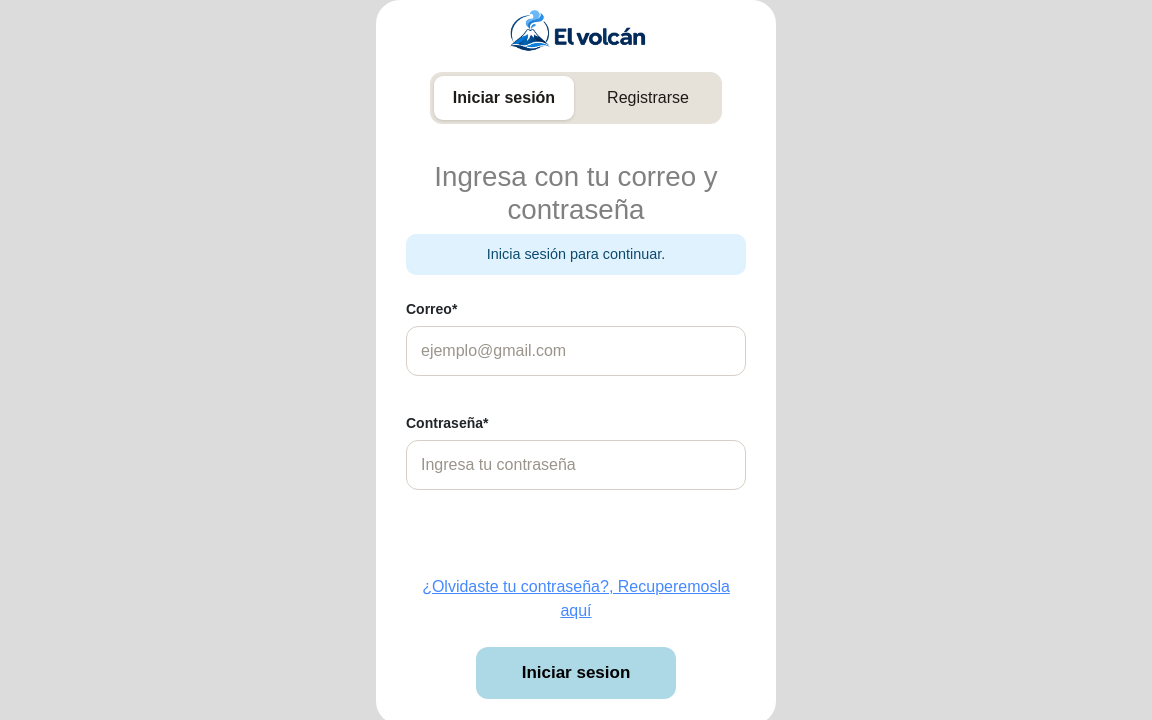
Scenario: App - autenticación › después de iniciar sesión vuelve a la página privada que pidió
Type "camila.rojas@correo.cl" into the field labelled "Correo*".
click(576, 351); type("camila.rojas@correo.cl")  # box left=406, top=326, right=746, bottom=376
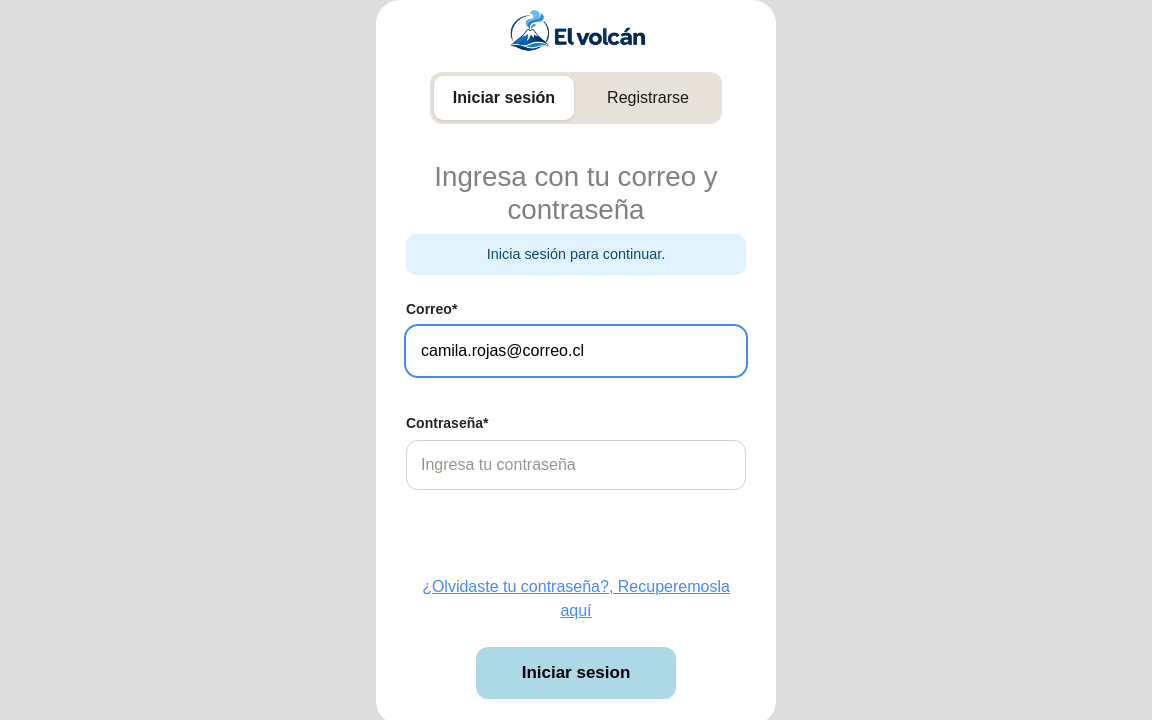
Type "Clave1234" into the password field labelled "Contraseña*".
click(576, 465); type("Clave1234")  # box left=406, top=440, right=746, bottom=490
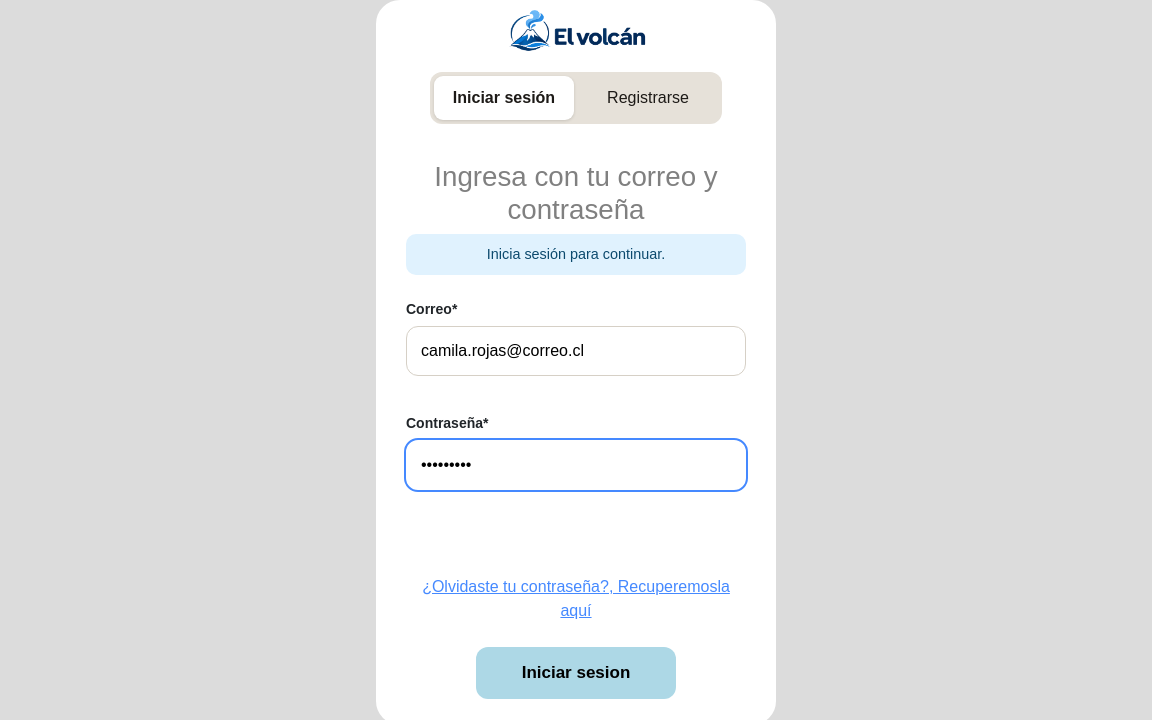
Click the button "Iniciar sesion".
click(576, 673)  # box left=476, top=647, right=676, bottom=699
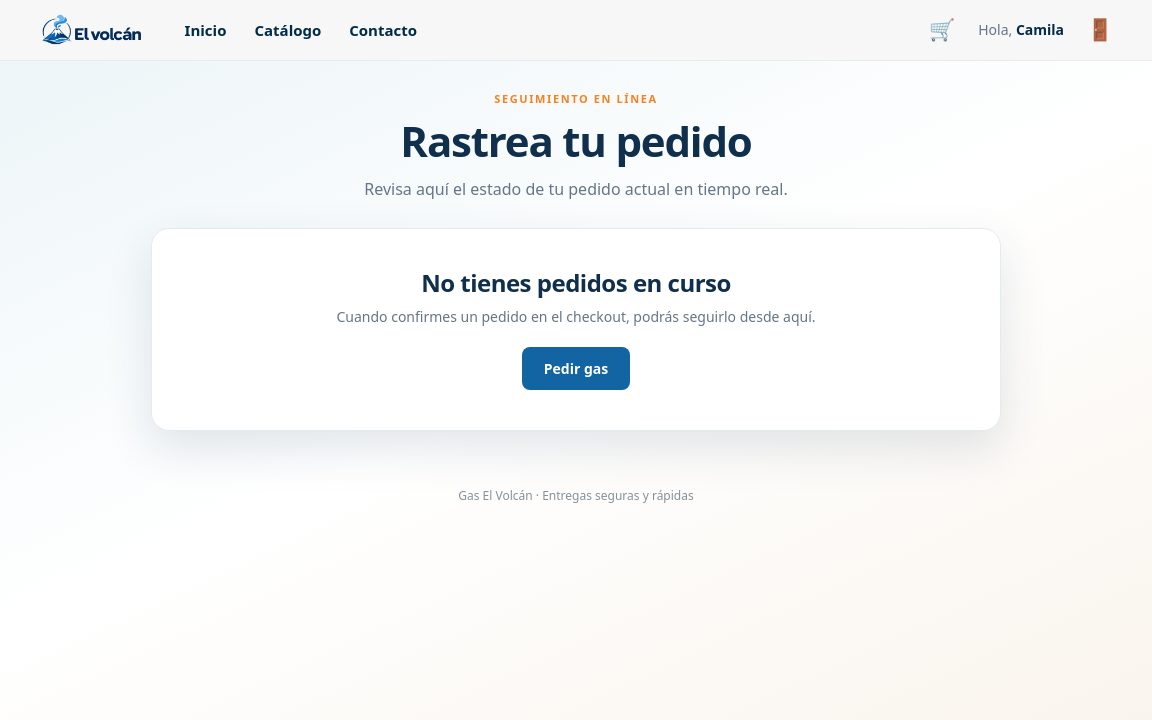
Expected: the heading "Rastrea tu pedido" is shown, left=400, top=112, right=752, bottom=169
